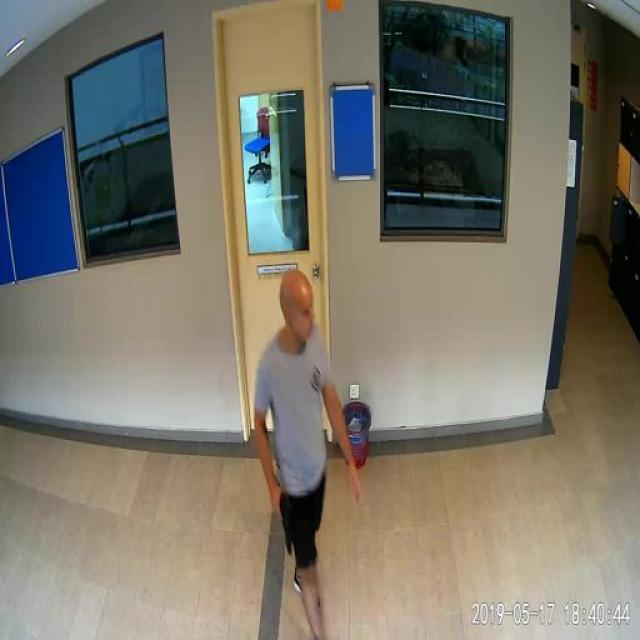Gun: (265, 481, 296, 574)
